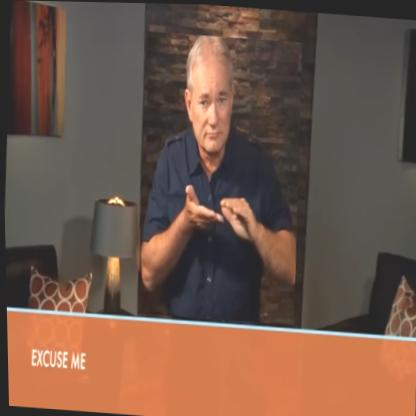ExcuseMe: (131, 30, 307, 324)
